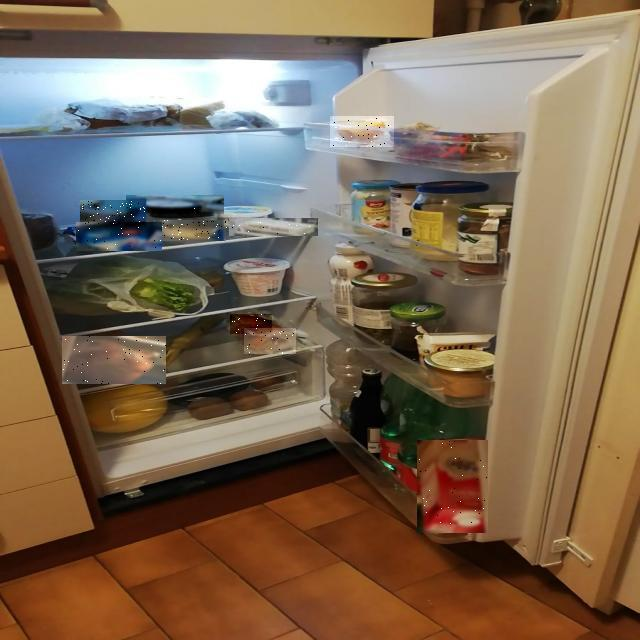Apple: (244, 328, 296, 354), (230, 314, 272, 334)
Butter: (229, 219, 318, 237)
Carrot: (63, 336, 167, 384)
Cheese: (77, 222, 163, 251), (154, 220, 228, 241)
Lemon: (331, 116, 395, 147)
Milk: (417, 440, 488, 533)
Yoghurt: (126, 196, 224, 216), (80, 200, 146, 226)
